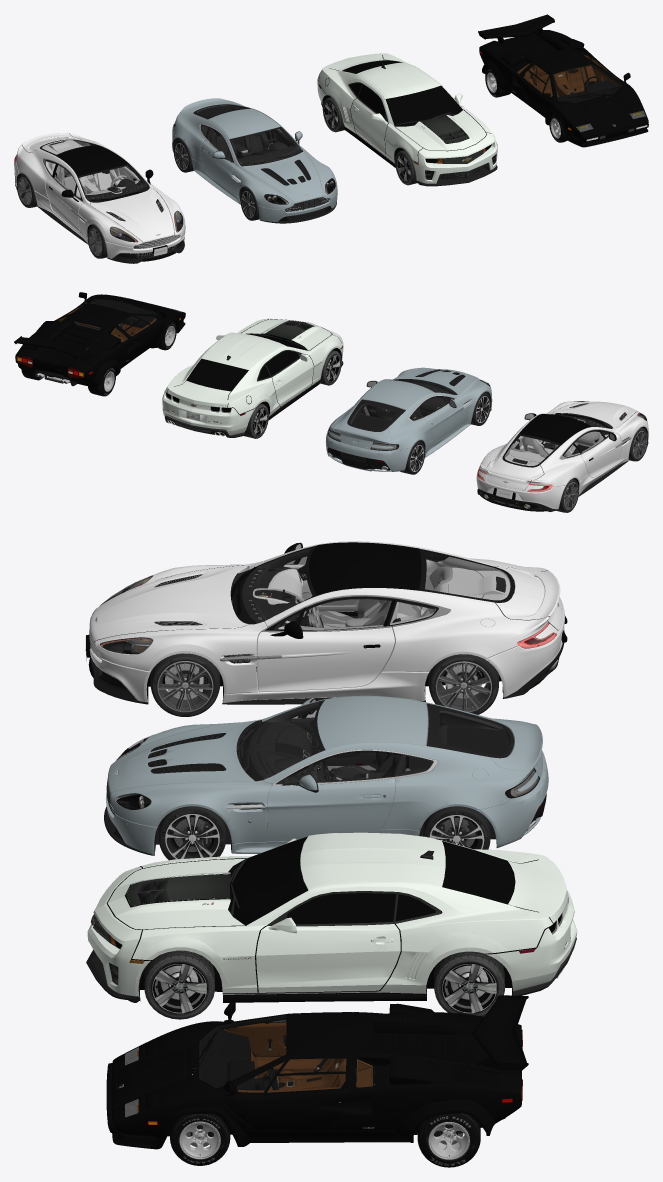
Rendered from cars_13_astin.fbx.
3 views of the same model, one above another, from view 1: azimuth 30°, elevation 25°; view 2: azimuth 150°, elevation 25°; view 3: azimuth 270°, elevation 25° (orthographic). The views are drawn at different scales.
Parts seen in each view (by area): view 1: Body_CARSKIN_SKIN1, Body_SMI_1329060001_006, Body_aMAT_Aston_Martin_V12_Va, Body_VANAstonMartin_Vanquish_.011, Body_aMAT_Details_MAT1, SeeThrough_aMAT_Glass1, Body_DULLPLASTIC_MISC, SeeThrough_VANAstonMartin_Vanquish_, SeeThrough_SMI_Glass1, Body_Color_2, Body_int_Color_2, Body_SMI_Exhaust1 (+18 smaller); view 2: Body_CARSKIN_SKIN1, Body_aMAT_Aston_Martin_V12_Va, Body_SMI_1329060001_006, Body_VANAstonMartin_Vanquish_.011, Body_aMAT_Details_MAT1, SeeThrough_aMAT_Glass1, SeeThrough_VANAstonMartin_Vanquish_, Body_DULLPLASTIC_MISC, Body_Color_2, Body_SMI_Exhaust1, Body_int_Color_2, SeeThrough_SMI_Glass1 (+16 smaller); view 3: Body_CARSKIN_SKIN1, Body_VANAstonMartin_Vanquish_.011, Body_SMI_1329060001_006, Body_aMAT_Aston_Martin_V12_Va, Body_aMAT_Details_MAT1, SeeThrough_aMAT_Glass1, SeeThrough_VANAstonMartin_Vanquish_, SeeThrough_SMI_Glass1, Body_DULLPLASTIC_MISC, Body_Color_2, Body_int_Color_2, Body_SMI_Exhaust1 (+24 smaller).
Part boxes in pixels (bbox=[...]): Body_CARSKIN_SKIN1: bbox=[317, 53, 497, 183]; Body_SMI_1329060001_006: bbox=[478, 14, 648, 147]; Body_aMAT_Aston_Martin_V12_Va: bbox=[172, 98, 337, 221]; Body_VANAstonMartin_Vanquish_.011: bbox=[14, 133, 185, 258]; Body_aMAT_Details_MAT1: bbox=[173, 104, 334, 217]; SeeThrough_aMAT_Glass1: bbox=[174, 104, 335, 204]; Body_DULLPLASTIC_MISC: bbox=[321, 63, 497, 186]; SeeThrough_VANAstonMartin_Vanquish_: bbox=[42, 140, 146, 199]; SeeThrough_SMI_Glass1: bbox=[517, 53, 621, 102]; Body_Color_2: bbox=[49, 145, 175, 261]; Body_int_Color_2: bbox=[42, 140, 140, 198]; Body_SMI_Exhaust1: bbox=[480, 31, 647, 142]; Body_CARSKIN_SKIN1: bbox=[162, 318, 343, 435]; Body_aMAT_Aston_Martin_V12_Va: bbox=[325, 368, 492, 471]; Body_SMI_1329060001_006: bbox=[14, 294, 185, 387]; Body_VANAstonMartin_Vanquish_.011: bbox=[476, 401, 648, 509]; Body_aMAT_Details_MAT1: bbox=[328, 370, 491, 469]; SeeThrough_aMAT_Glass1: bbox=[328, 368, 489, 450]; SeeThrough_VANAstonMartin_Vanquish_: bbox=[505, 414, 608, 465]; Body_DULLPLASTIC_MISC: bbox=[164, 320, 343, 437]; Body_Color_2: bbox=[479, 413, 616, 511]; Body_SMI_Exhaust1: bbox=[16, 292, 181, 386]; Body_int_Color_2: bbox=[504, 419, 608, 465]; SeeThrough_SMI_Glass1: bbox=[57, 299, 157, 342]; Body_CARSKIN_SKIN1: bbox=[87, 832, 577, 996]; Body_VANAstonMartin_Vanquish_.011: bbox=[89, 541, 564, 702]; Body_SMI_1329060001_006: bbox=[106, 995, 528, 1149]; Body_aMAT_Aston_Martin_V12_Va: bbox=[105, 695, 548, 854]; Body_aMAT_Details_MAT1: bbox=[106, 698, 544, 853]; SeeThrough_aMAT_Glass1: bbox=[115, 700, 539, 809]; SeeThrough_VANAstonMartin_Vanquish_: bbox=[241, 548, 510, 630]; SeeThrough_SMI_Glass1: bbox=[199, 1015, 372, 1092]; Body_DULLPLASTIC_MISC: bbox=[86, 850, 576, 1002]; Body_Color_2: bbox=[88, 542, 559, 688]; Body_int_Color_2: bbox=[253, 556, 510, 629]; Body_SMI_Exhaust1: bbox=[124, 1001, 521, 1142].
Size of the model in its own units: 12.52 by 1.42 by 4.84.
Materials: 96 (96 with a texture image).
